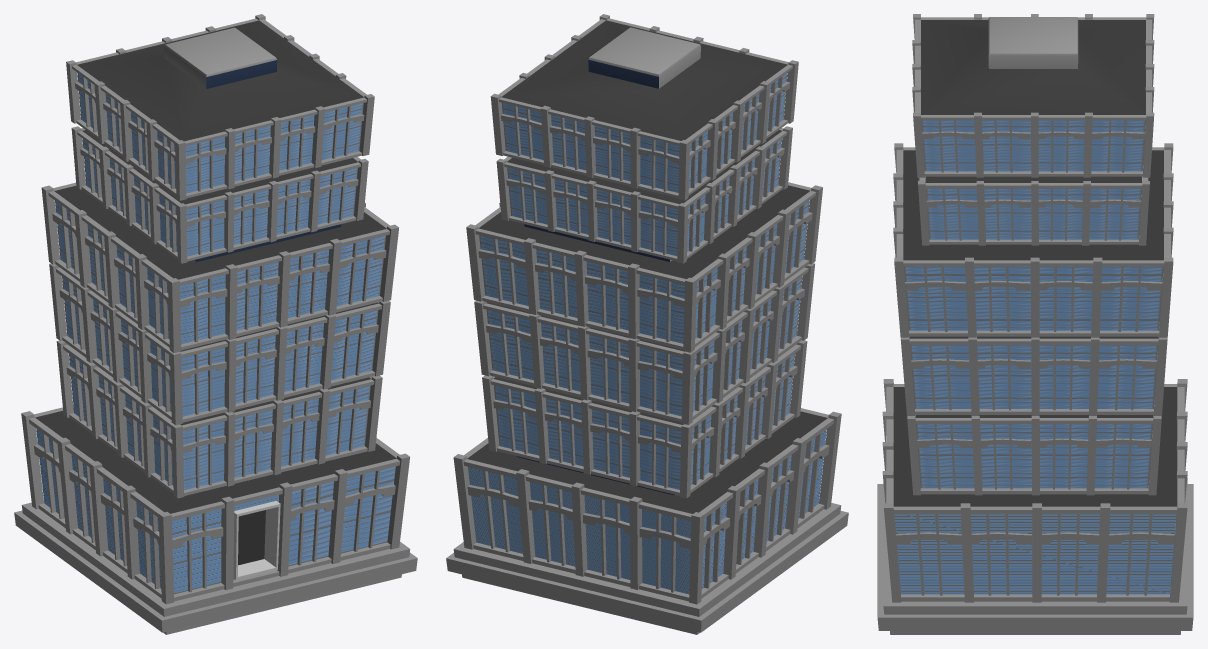
The model's file is Empire Building #1.FBX.
3 renders of one model, left to right at view 1: azimuth 30°, elevation 25°; view 2: azimuth 150°, elevation 25°; view 3: azimuth 270°, elevation 25°, orthographic. The views are drawn at different scales.
Parts seen in each view (by area): view 1: Empire Building #1; view 2: Empire Building #1; view 3: Empire Building #1.
Part boxes in pixels (left/top/right/bottom): Empire Building #1: left=14, top=14, right=417, bottom=634; Empire Building #1: left=446, top=14, right=848, bottom=634; Empire Building #1: left=877, top=14, right=1193, bottom=634.
Size of the model in its own units: 22.26 by 42.06 by 22.26.
Materials: 8 (2 with a texture image).
